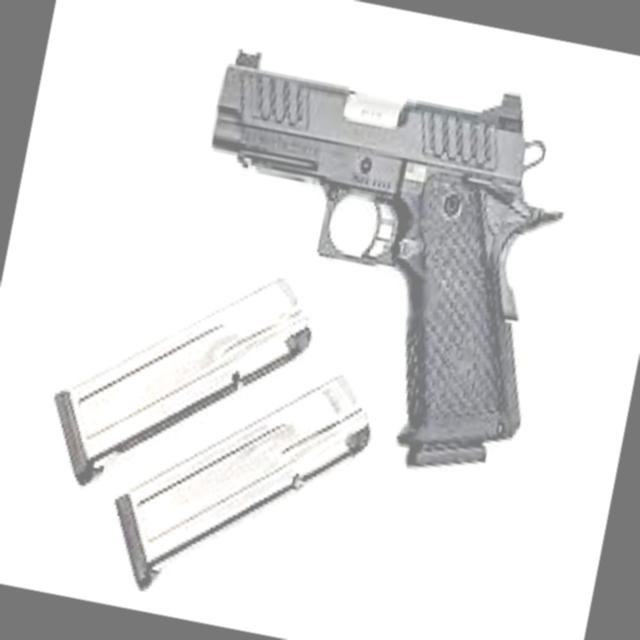semi automatic: (1, 0, 597, 640)
